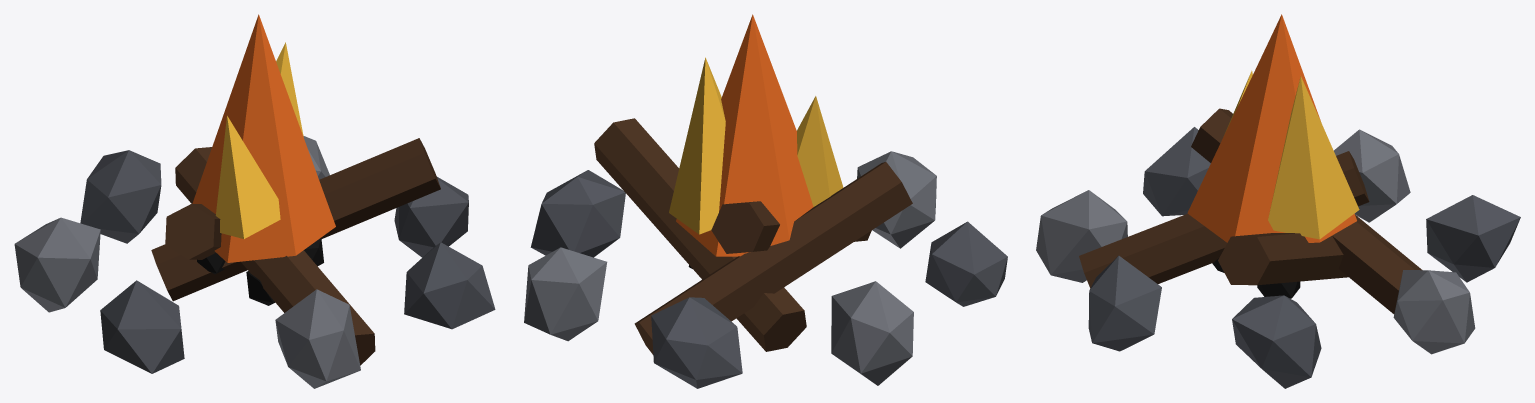
Rendered from Campfire.obj.
The picture shows the model from 3 angles, left to right: view 1: azimuth 30°, elevation 25°; view 2: azimuth 150°, elevation 25°; view 3: azimuth 270°, elevation 25°; orthographic projection. The views are drawn at different scales.
Visible parts, largest first — view 1: Campfire; view 2: Campfire; view 3: Campfire.
Part boxes in pixels (x1,y1,x2,y2): Campfire: (14,14,495,388); Campfire: (524,14,1007,388); Campfire: (1036,14,1520,388).
Bounding box in the file's own units: 2.91 × 2.07 × 3.04.
